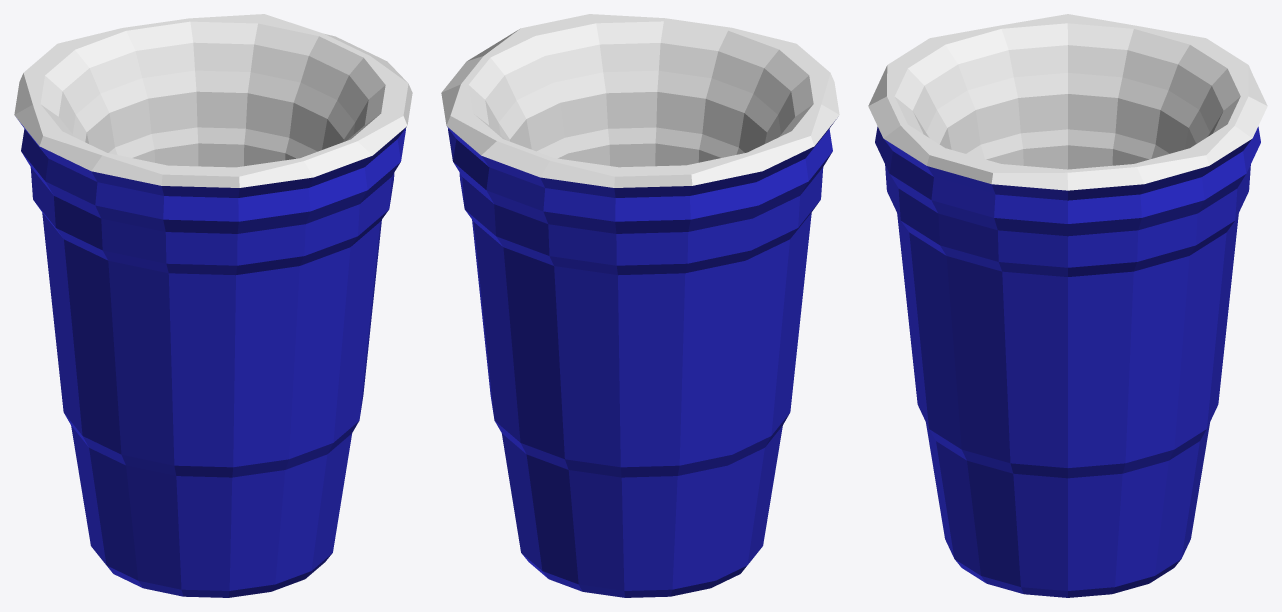
File: BlueCupThicc.glb
3 renders of one model, left to right at view 1: azimuth 30°, elevation 25°; view 2: azimuth 150°, elevation 25°; view 3: azimuth 270°, elevation 25°, orthographic.
Parts seen in each view (by area): view 1: Cup; view 2: Cup; view 3: Cup.
Boxes of the visible parts, x1,y1,x2,y2 form: Cup: (14, 14, 412, 597); Cup: (441, 14, 839, 597); Cup: (868, 14, 1267, 597).
Size of the model in its own units: 0.096 by 0.12 by 0.096.
